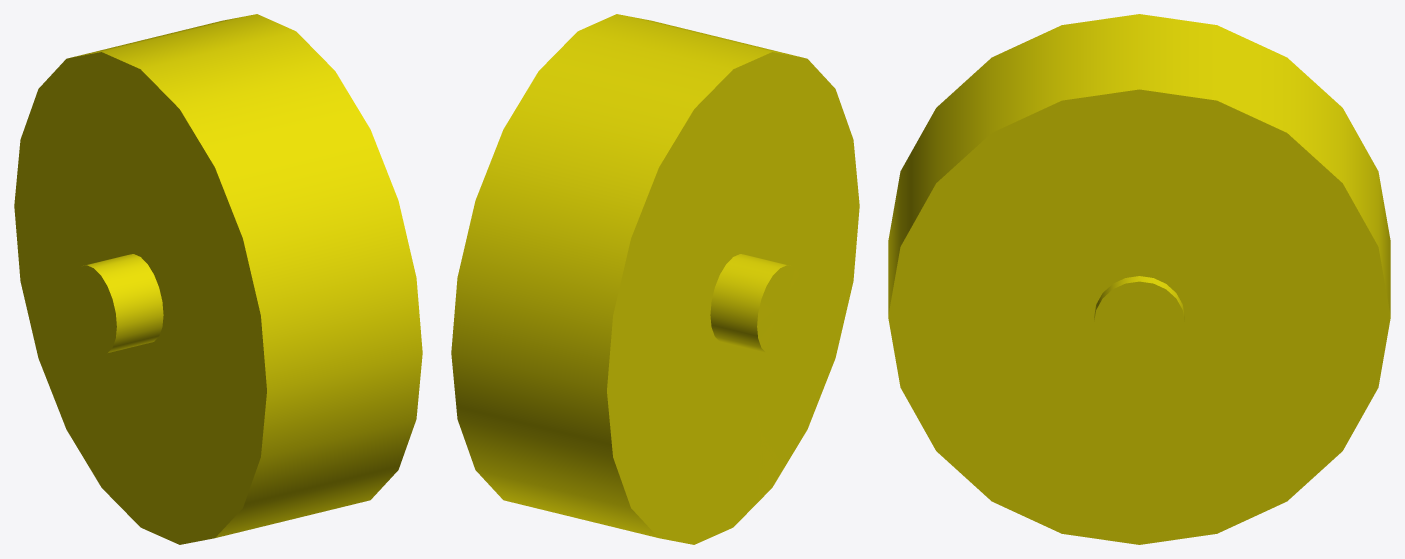
File: Trebuchet_Cart_Wheel.fbx
The picture shows the model from 3 angles, left to right: view 1: azimuth 30°, elevation 25°; view 2: azimuth 150°, elevation 25°; view 3: azimuth 270°, elevation 25°; orthographic projection.
Visible parts, largest first — view 1: polySurface7; view 2: polySurface7; view 3: polySurface7.
Part boxes in pixels (left/top/right/bottom): polySurface7: left=14, top=14, right=422, bottom=544; polySurface7: left=451, top=14, right=859, bottom=544; polySurface7: left=888, top=14, right=1390, bottom=544.
Size of the model in its own units: 0.7695 by 1.58 by 1.58.
